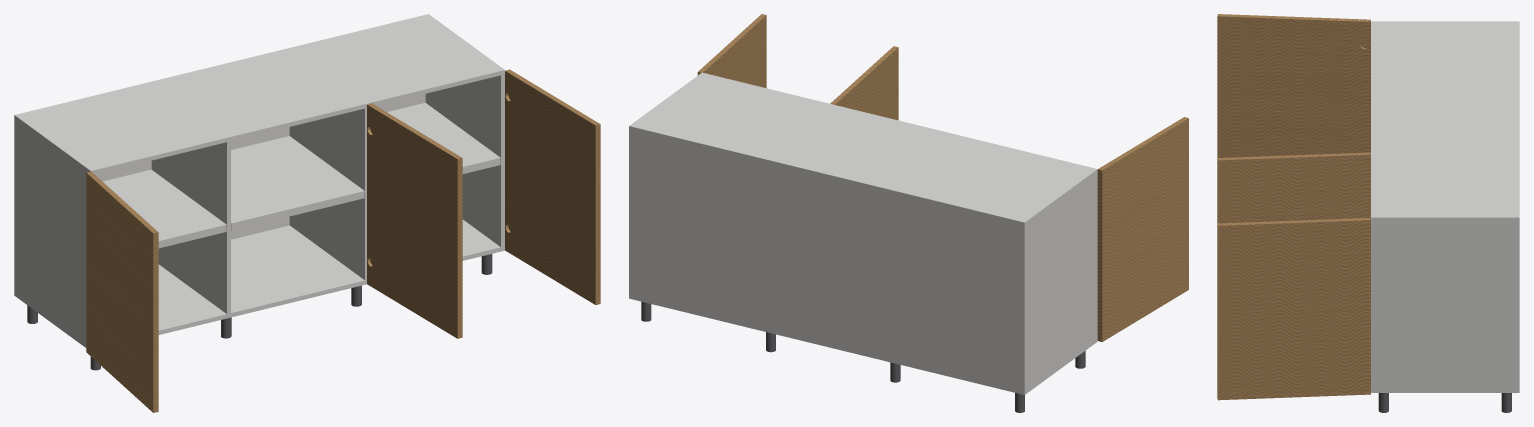
Rendered from w1800_inset_default_open.glb.
The picture shows the model from 3 angles, left to right: view 1: azimuth 30°, elevation 25°; view 2: azimuth 150°, elevation 25°; view 3: azimuth 270°, elevation 25°; orthographic projection. The views are drawn at different scales.
Visible parts, largest first — view 1: white, oak, leg; view 2: white, oak, leg; view 3: oak, white, leg.
Boxes of the visible parts, box(x1,y1,x2,y2) form: white: box(14, 14, 504, 347); oak: box(86, 69, 600, 412); leg: box(27, 254, 492, 370); white: box(629, 72, 1097, 394); oak: box(697, 14, 1188, 341); leg: box(641, 301, 1085, 412); oak: box(1217, 14, 1370, 400); white: box(1371, 21, 1519, 392); leg: box(1378, 393, 1511, 412).
Bounding box in the file's own units: 1.94 × 0.85 × 1.17.
Materials: 3 (1 with a texture image).
